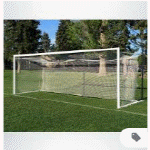goals: (10, 45, 143, 109)
